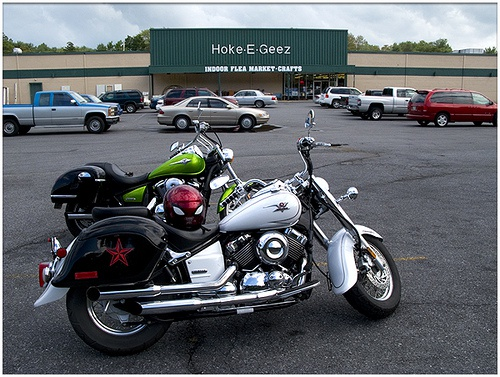non-vehicle: (32, 106, 401, 356), (49, 99, 260, 237)
